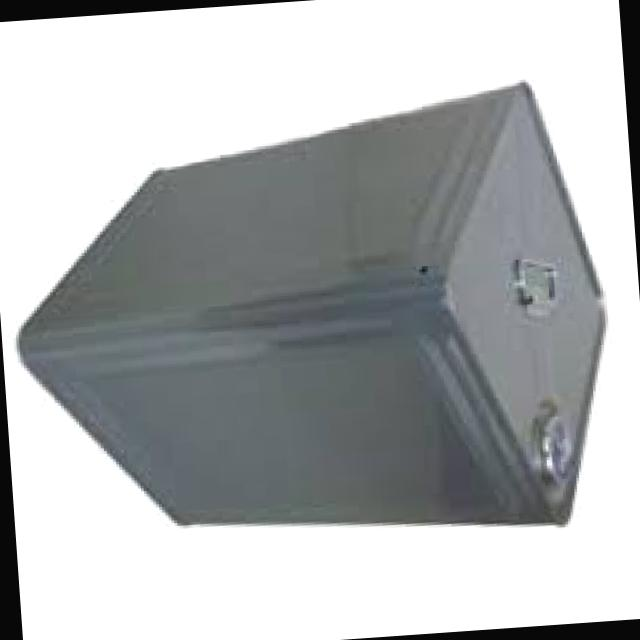metal: (19, 86, 605, 525), (539, 414, 574, 485), (513, 260, 557, 315)
